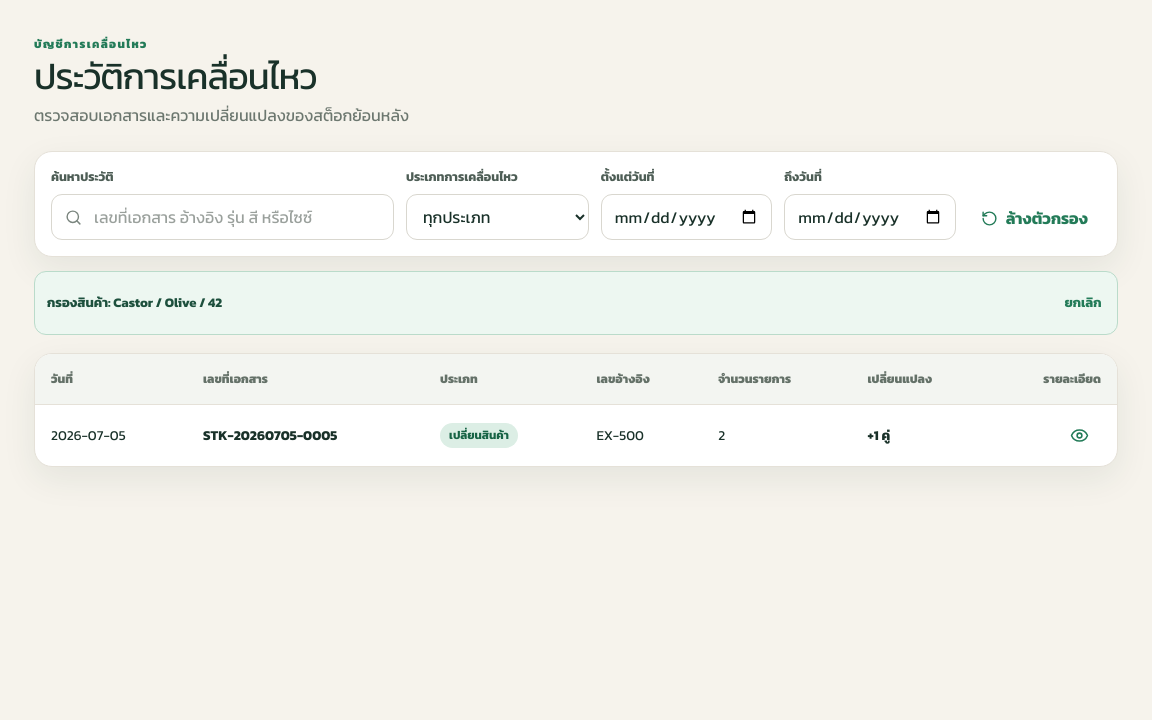
Test: HistoryPage › applies a variant deep link and exposes a removable Thai filter label
The image size is (1152, 720).
Check: the number of rows is 2, box [35,354,1117,404]; [35,404,1117,466]
Check: the text "EX-500" is shown, box [580,404,702,466]
Step 1. Click the button with aria-label "ยกเลิกตัวกรองสินค้า" → (1083, 303), box [1061,281,1105,325]
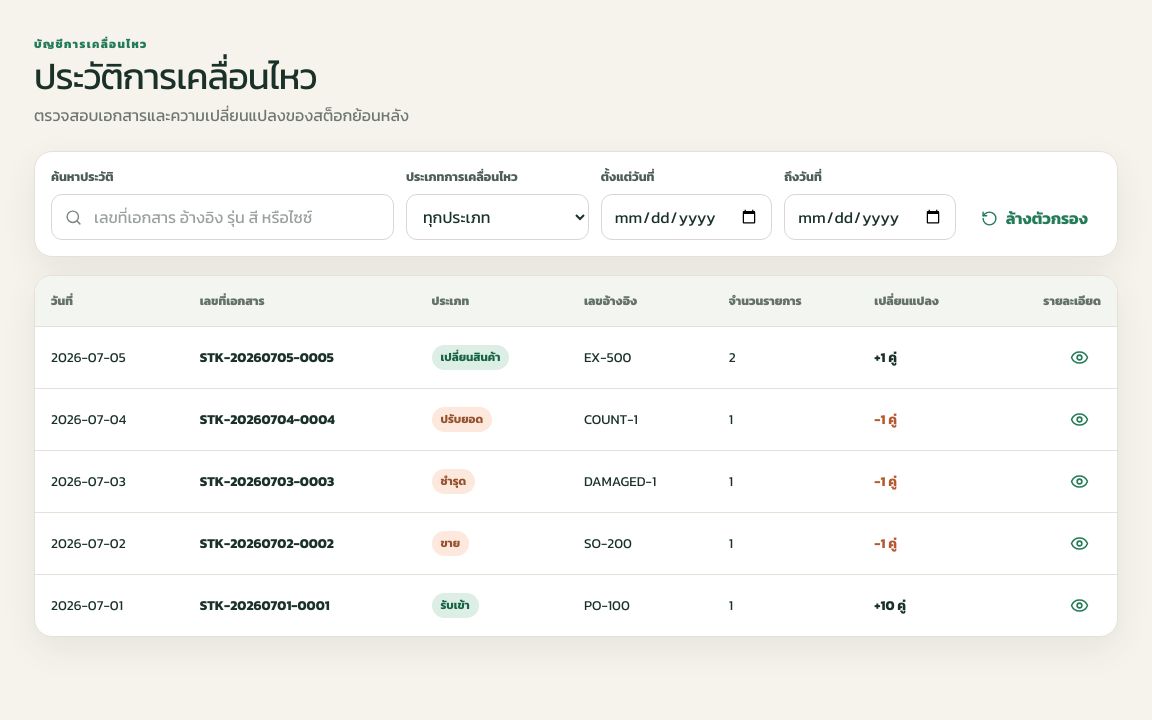
Check: the number of rows is 6, box [35,276,1117,326]; [35,326,1117,388]; [35,388,1117,450]; [35,450,1117,512]; [35,512,1117,574]; [35,574,1117,636]
Check: the text "กรองสินค้า: Castor / Olive / 42" is gone
